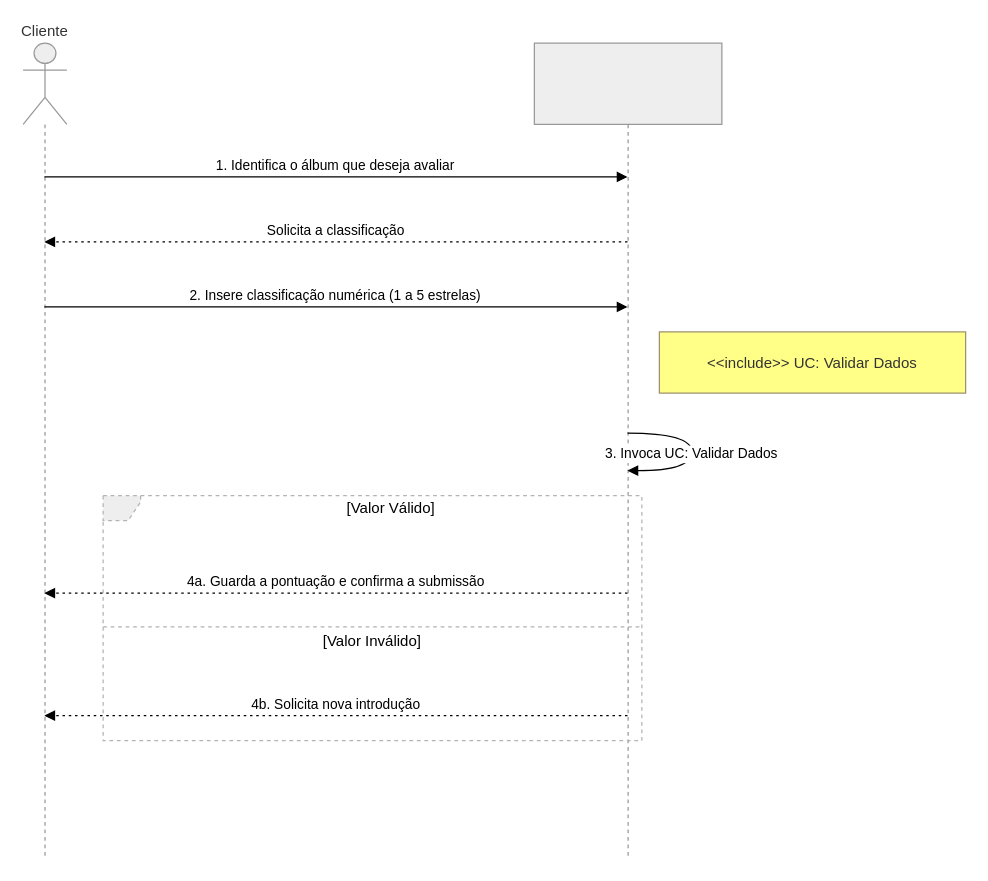
This 988x881 diagram has some shape labels left out. The shapes that lost their labels are listed below. From the top down, each one's box as (x1, y1, x2, y2) in pixels, then its label:
(533, 42, 722, 859): Sistema
(102, 494, 642, 741): alt
